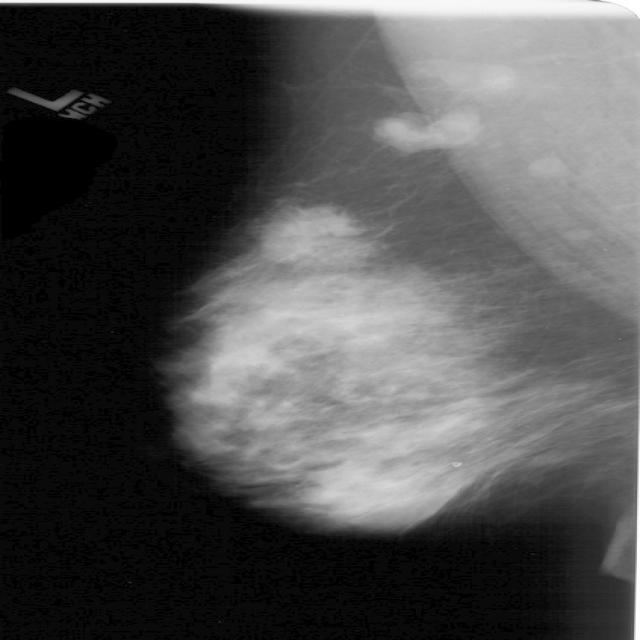tumour: (263, 205, 369, 264)
